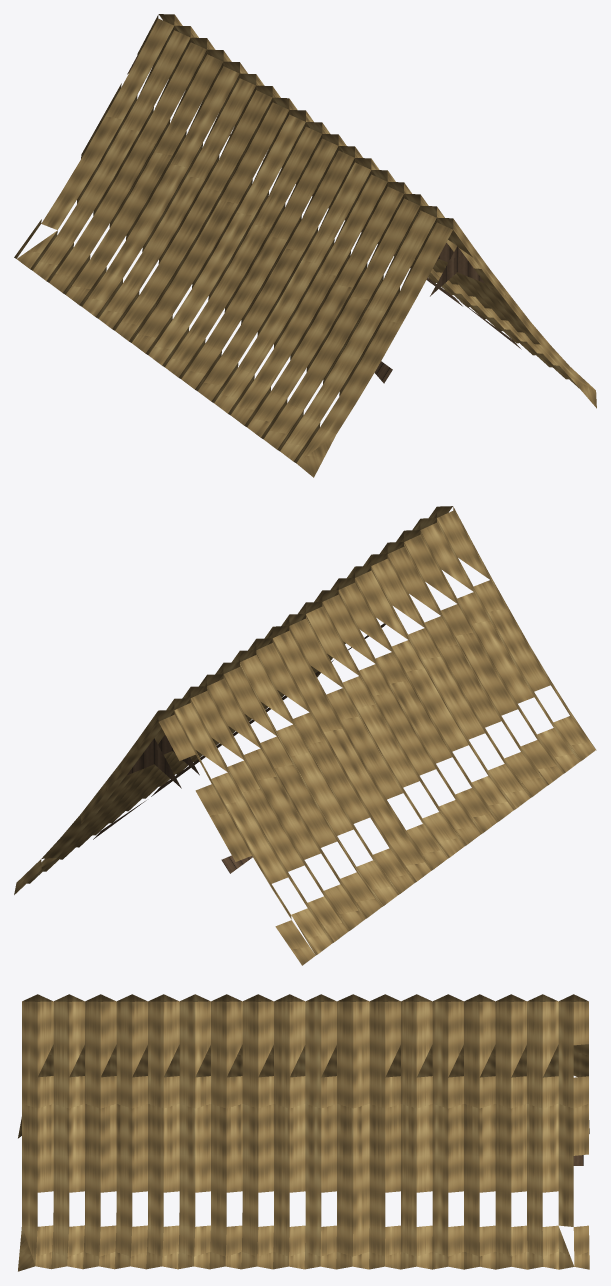
The model's file is Roof_Thatch_4x8_LOD1.gltf.
3 renders of one model, top to bottom at view 1: azimuth 30°, elevation 25°; view 2: azimuth 150°, elevation 25°; view 3: azimuth 270°, elevation 25°, orthographic. The views are drawn at different scales.
Parts seen in each view (by area): view 1: Roof_Thatch_4x8_LOD1; view 2: Roof_Thatch_4x8_LOD1; view 3: Roof_Thatch_4x8_LOD1.
Part boxes in pixels (x1,y1,x2,y2): Roof_Thatch_4x8_LOD1: (14, 14, 596, 477); Roof_Thatch_4x8_LOD1: (14, 506, 596, 965); Roof_Thatch_4x8_LOD1: (18, 994, 589, 1271).
Size of the model in its own units: 5.51 by 3.79 by 9.66.
2 materials, 2 textured.
